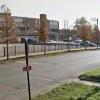Tree: (74, 11, 100, 55)
